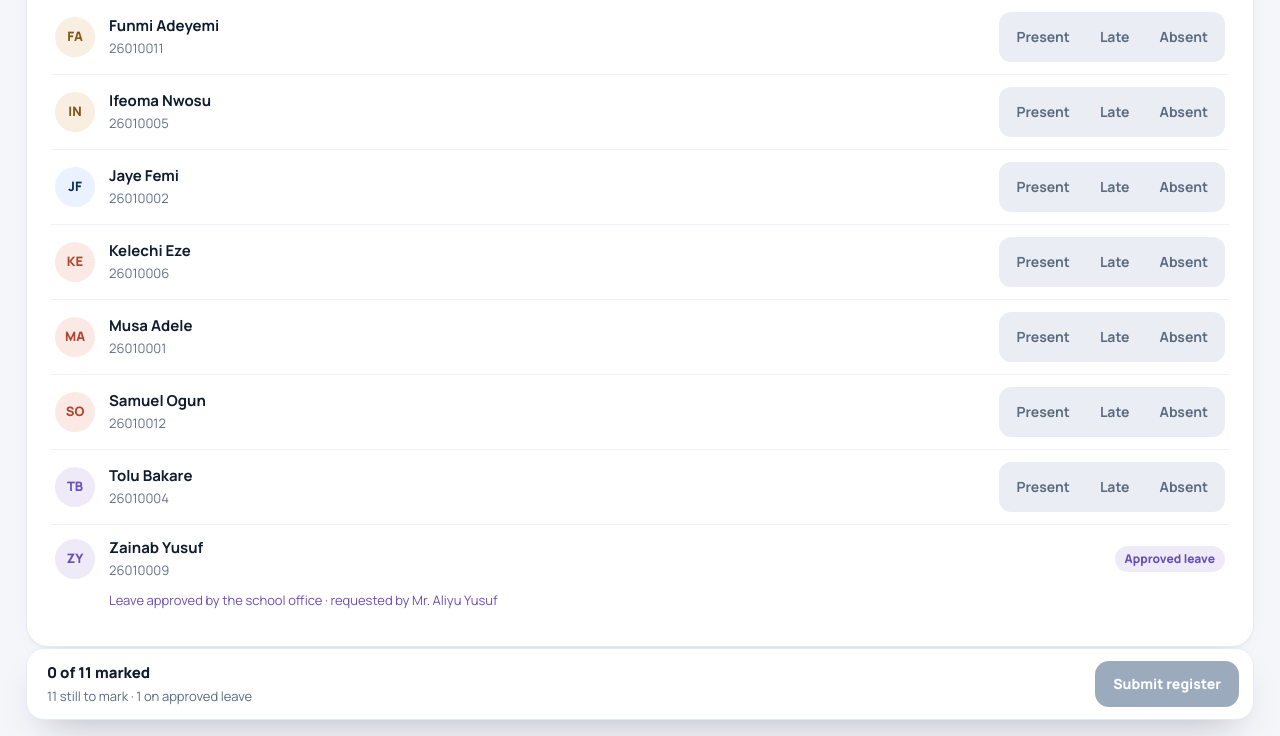
Test: Attendance, JSS1 A this morning › saves a draft after the last change, then submits and tells the teacher how many parents were notified
The image size is (1280, 736).
(page scrolled)
Click the radio button labelled "Absent" in the row of "Musa Adele" at point(1184, 336), box [1146,314,1222,358]
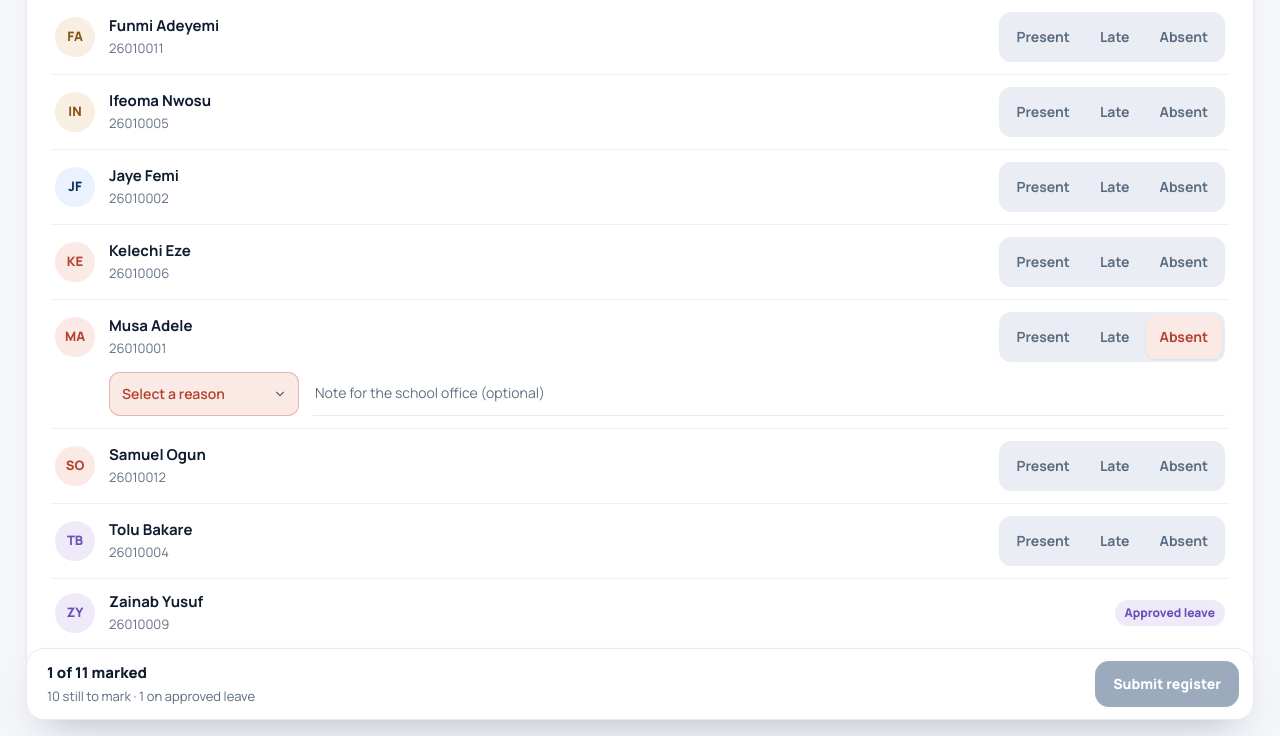
Click the radio button labelled "Late" in the row of "Jaye Femi" at point(1115, 186), box [1086,164,1144,208]
Wait 710 ms
(page scrolled)
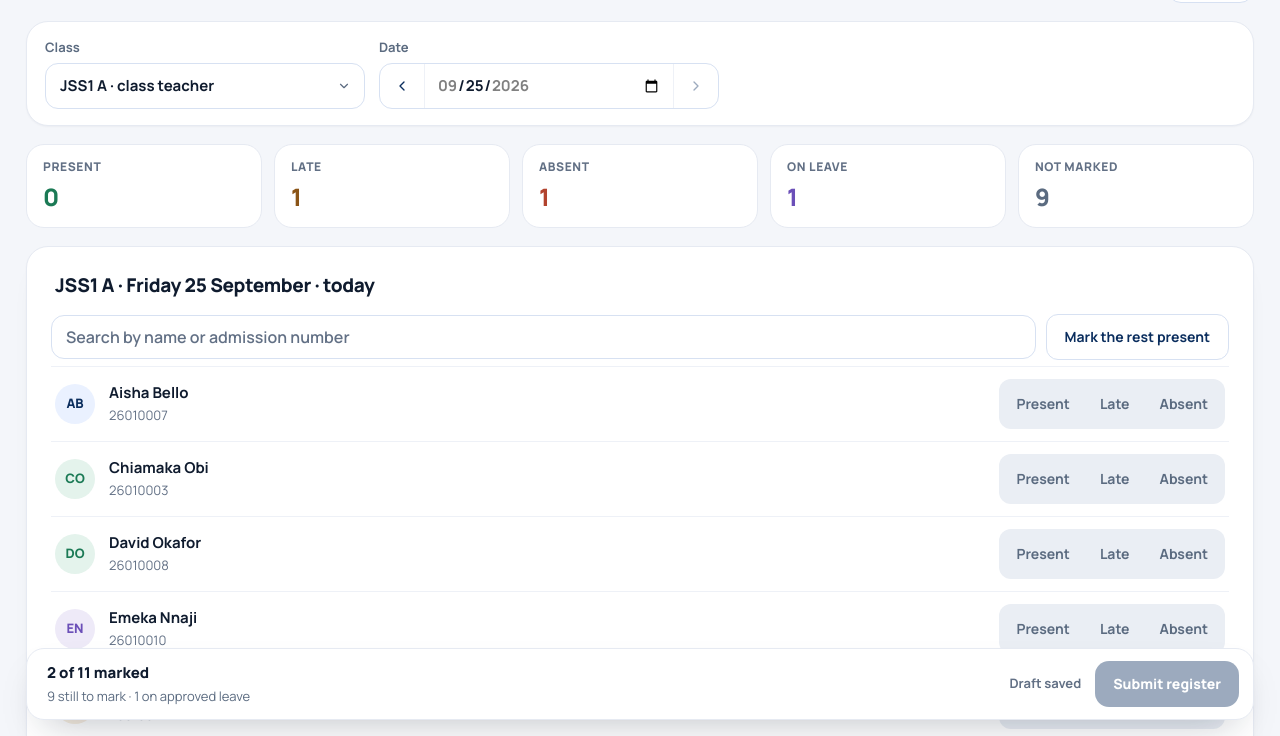
Expected: the text "Draft saved" is shown, [1009,674,1081,694]
Click the button "Mark the rest present" at point(1137, 336), box [1046,314,1229,360]
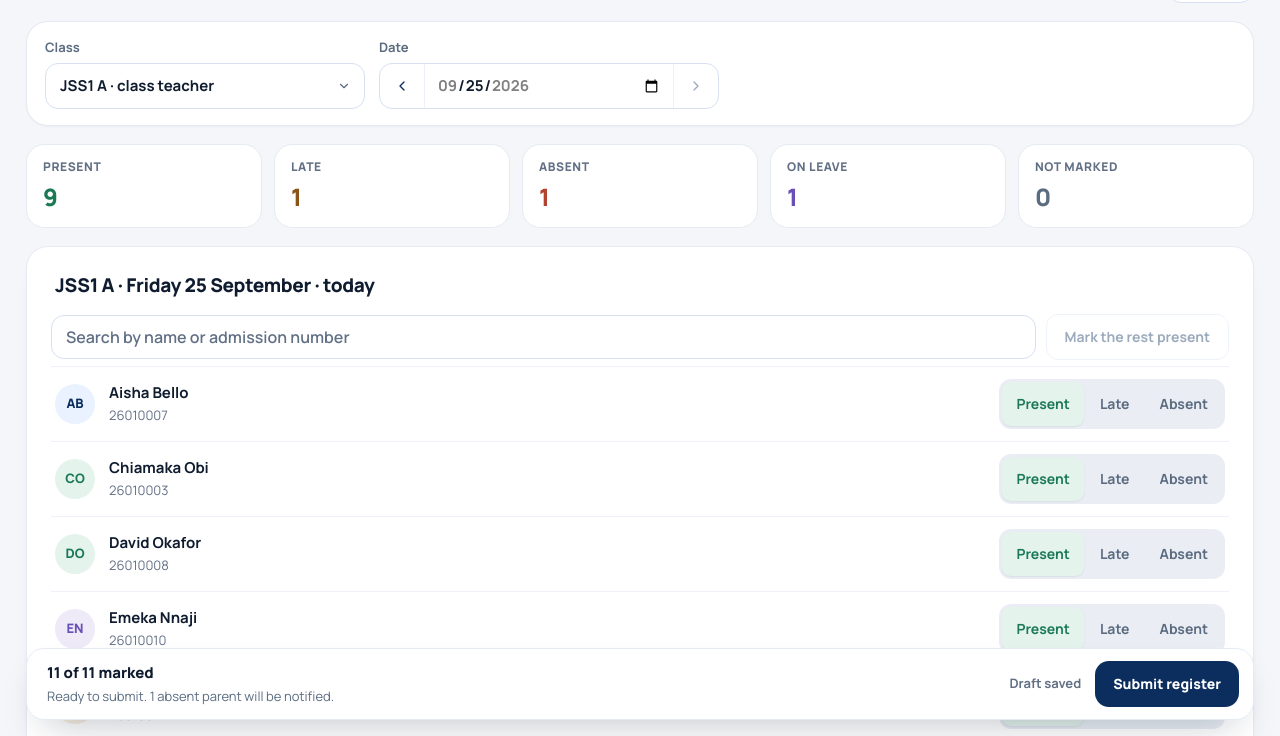
Expected: the text "11 of 11 marked" is shown, [47,662,154,683]
Expected: the text "Ready to submit. 1 absent parent will be notified." is shown, [47,686,334,704]
Expected: the button "Submit register" is enabled
Click the button "Submit register" at point(1167, 684), box [1095,661,1239,707]
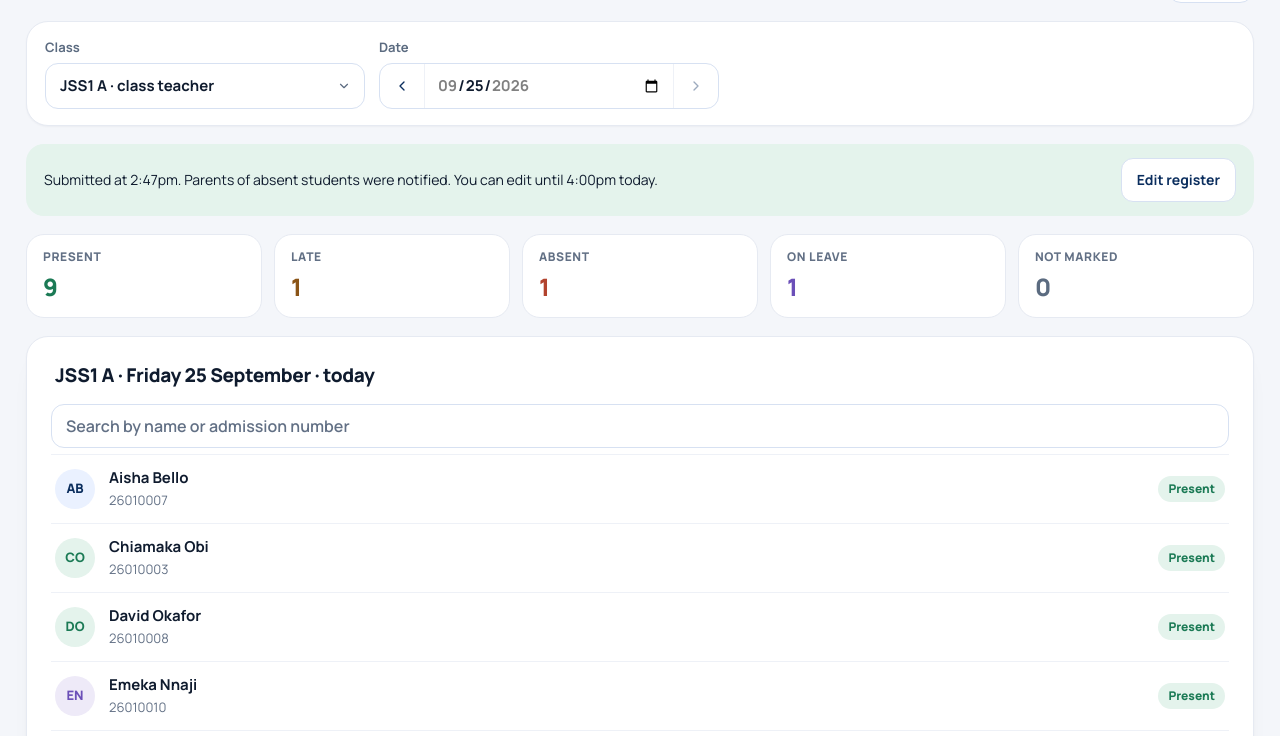
Expected: the button "Edit register" is shown, [1121,158,1236,202]
Expected: the button "Submit register" is gone
